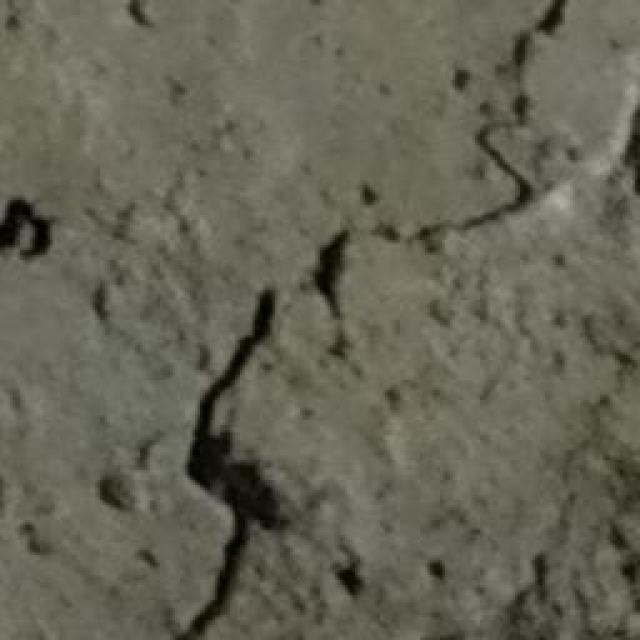Diagonal: (155, 0, 560, 625)
